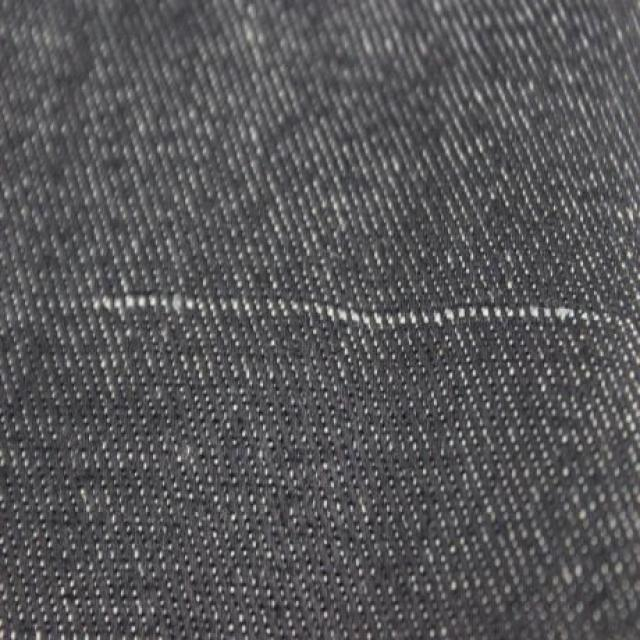stains: (34, 238, 640, 456)
